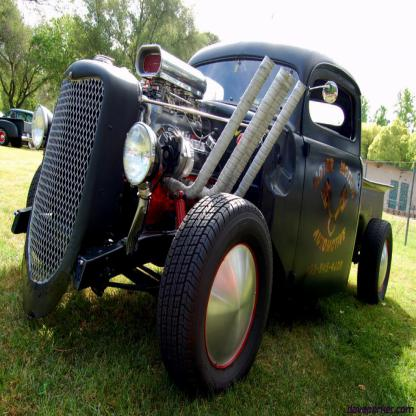Car: (11, 28, 391, 384), (0, 106, 36, 153)
